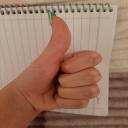ThumbsUp: (24, 10, 105, 118)
